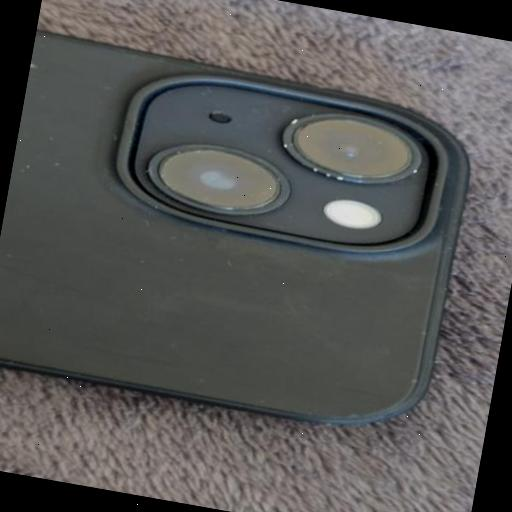phone: (0, 25, 484, 445)
